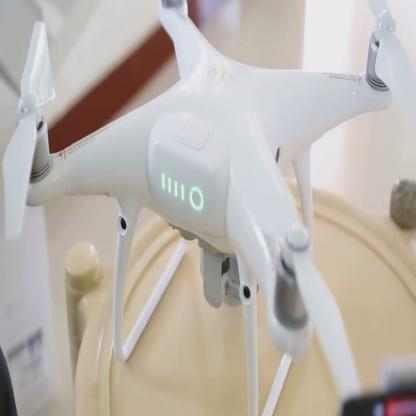drone: (5, 2, 416, 406)
